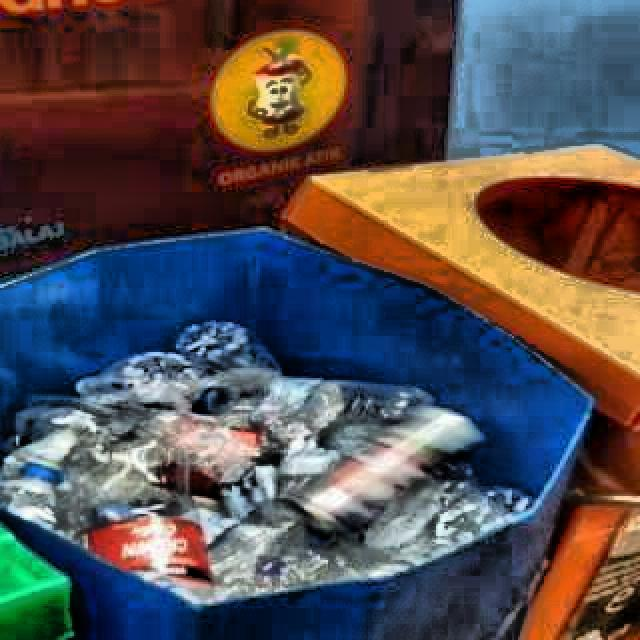metal: (296, 407, 483, 534)
